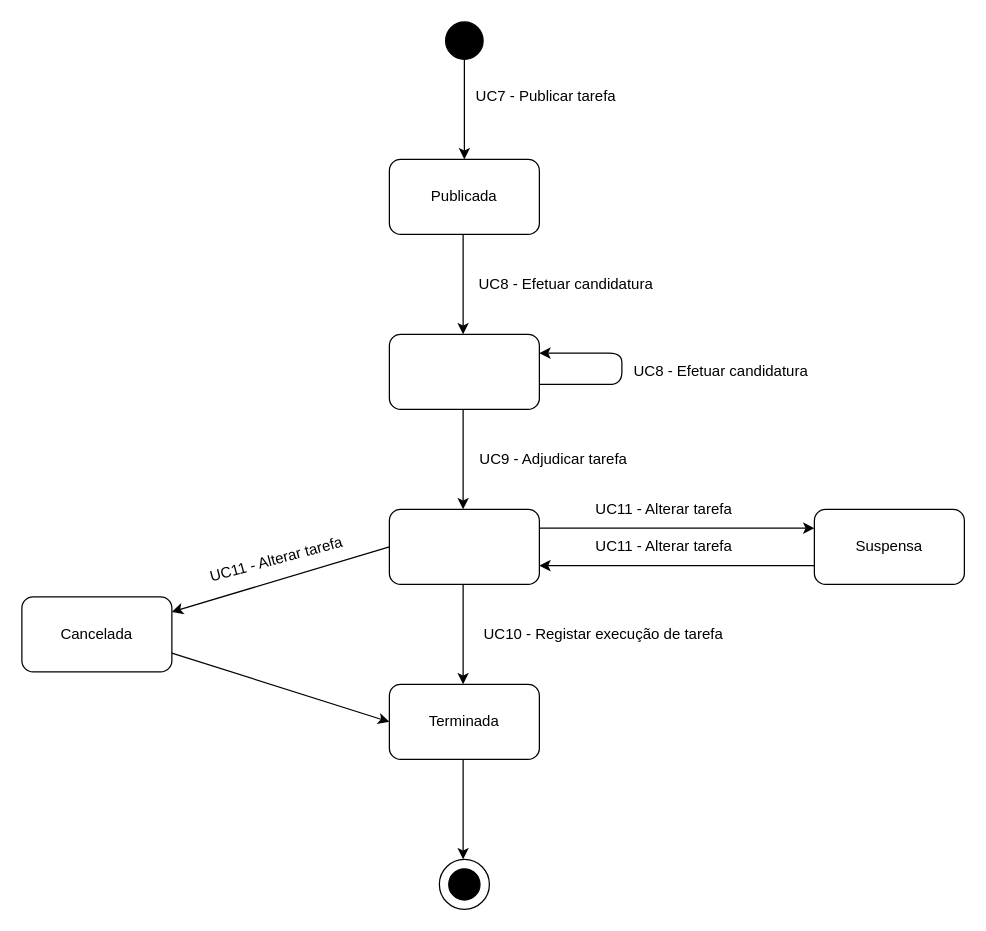
The diagram is 986 pixels wide and 931 high, and some of its shapes have lost their labels. The centre of each missing label's shape, as x and y in pixels:
Candidatada: (463,371)
Em curso: (463,546)
